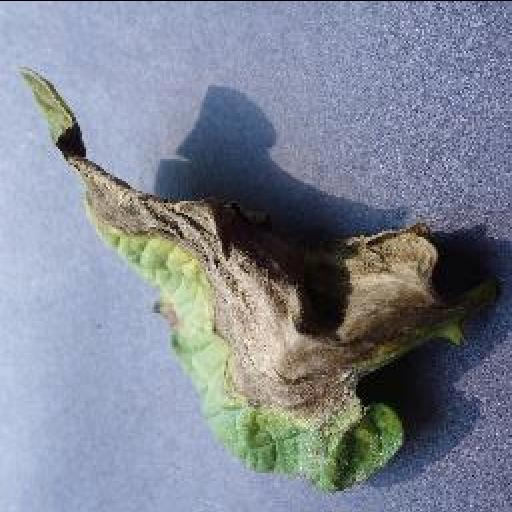disease_tomato: (17, 68, 439, 492)
